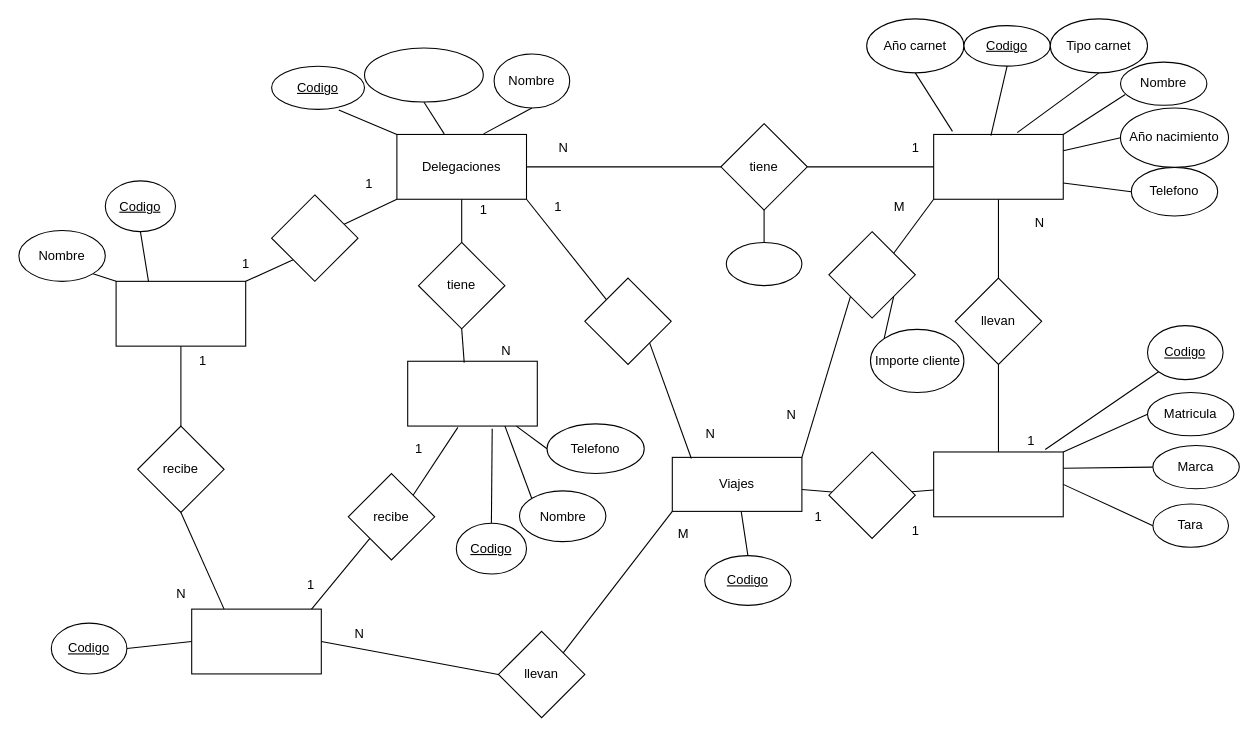
Some shapes in this 1258 by 737 pixel diagram are drawn without their labels. The shapes that lost their labels are listed below. From the top down, each one's box as (x1, y1, x2, y2) in pixels, then its label:
(363, 47, 483, 102): Numero telefono
(933, 133, 1063, 199): Conductores
(271, 194, 358, 281): situado
(725, 241, 802, 286): Fecha
(828, 231, 915, 318): realizan
(115, 280, 246, 346): Ciudad
(584, 277, 671, 364): hace
(407, 360, 537, 426): Clientes
(828, 451, 915, 538): hacen
(933, 451, 1063, 517): Camiones
(191, 608, 321, 674): Paquete
